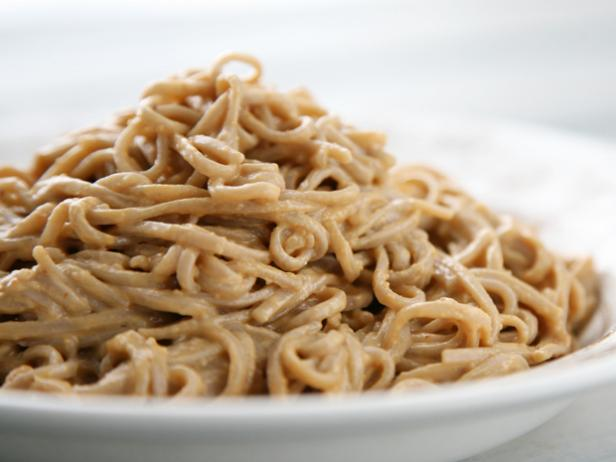Soba: (1, 61, 603, 405)
